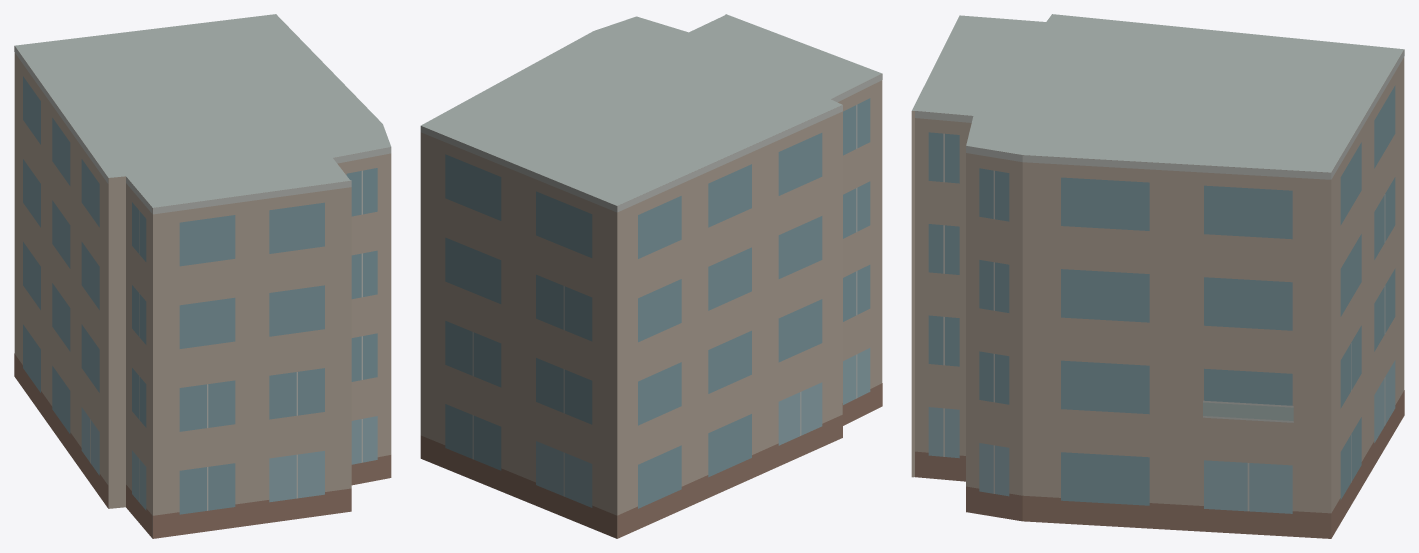
Rendered from survey-upis-32897643.glb.
The picture shows the model from 3 angles, left to right: view 1: azimuth 30°, elevation 25°; view 2: azimuth 150°, elevation 25°; view 3: azimuth 270°, elevation 25°; orthographic projection. The views are drawn at different scales.
Parts seen in each view (by area): view 1: survey-upis-32897643.tmp; view 2: survey-upis-32897643.tmp; view 3: survey-upis-32897643.tmp.
Part boxes in pixels (x1,y1,x2,y2): survey-upis-32897643.tmp: (14,14,391,538); survey-upis-32897643.tmp: (420,14,882,538); survey-upis-32897643.tmp: (911,14,1404,538).
Bounding box in the file's own units: 11.53 × 12.4 × 15.13.
